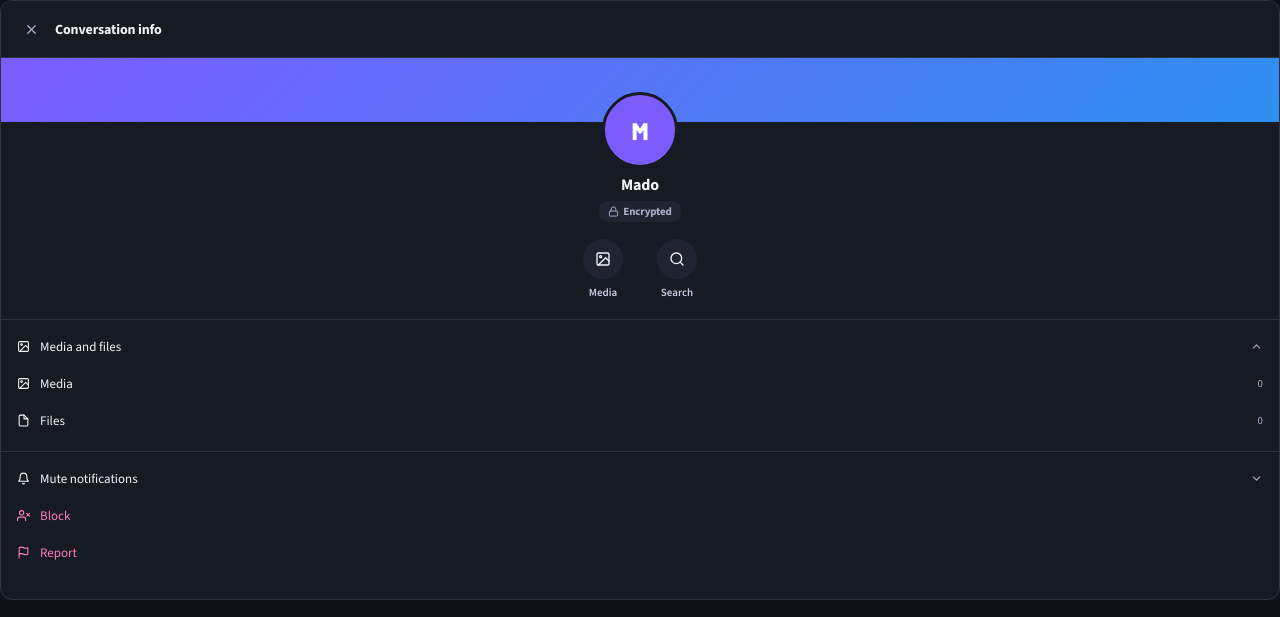
it: ConversationInfoPanel blocking › layout › folds the media and files rows away and opens them again
Expected: the button "Files 0" is shown, [9,402,1271,439]
Click the button "Media and files". click: (81, 346)
box: [9,328,1271,365]
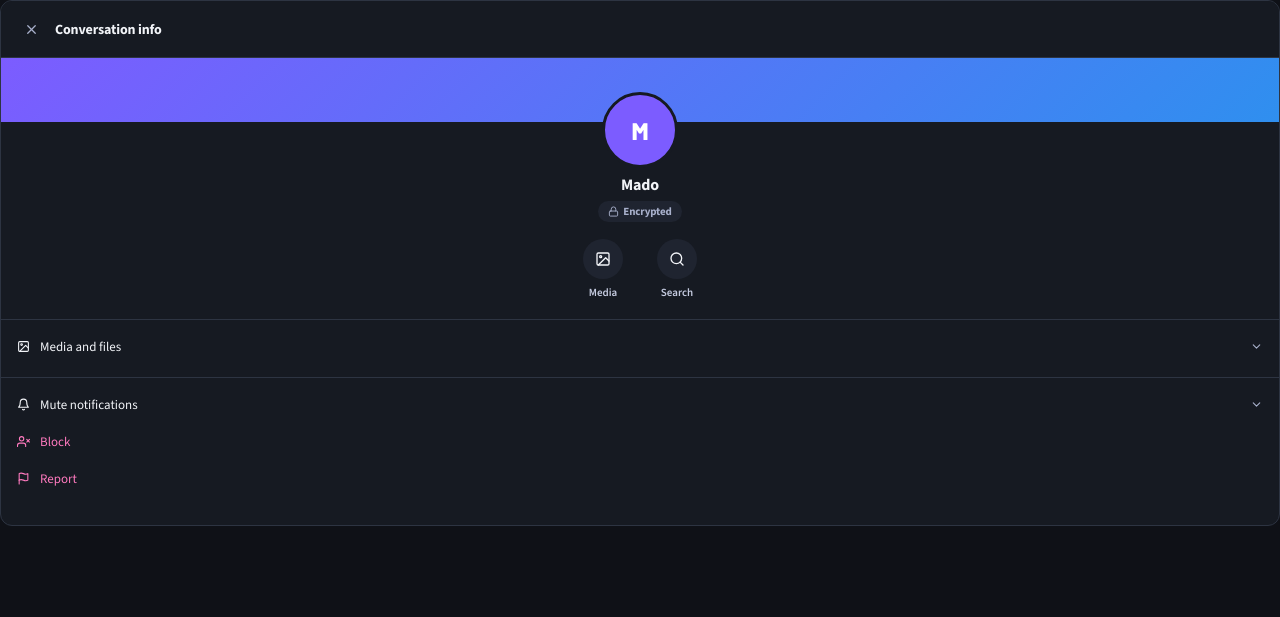
Click the button "Media and files". click: (81, 346)
box: [9,328,1271,365]
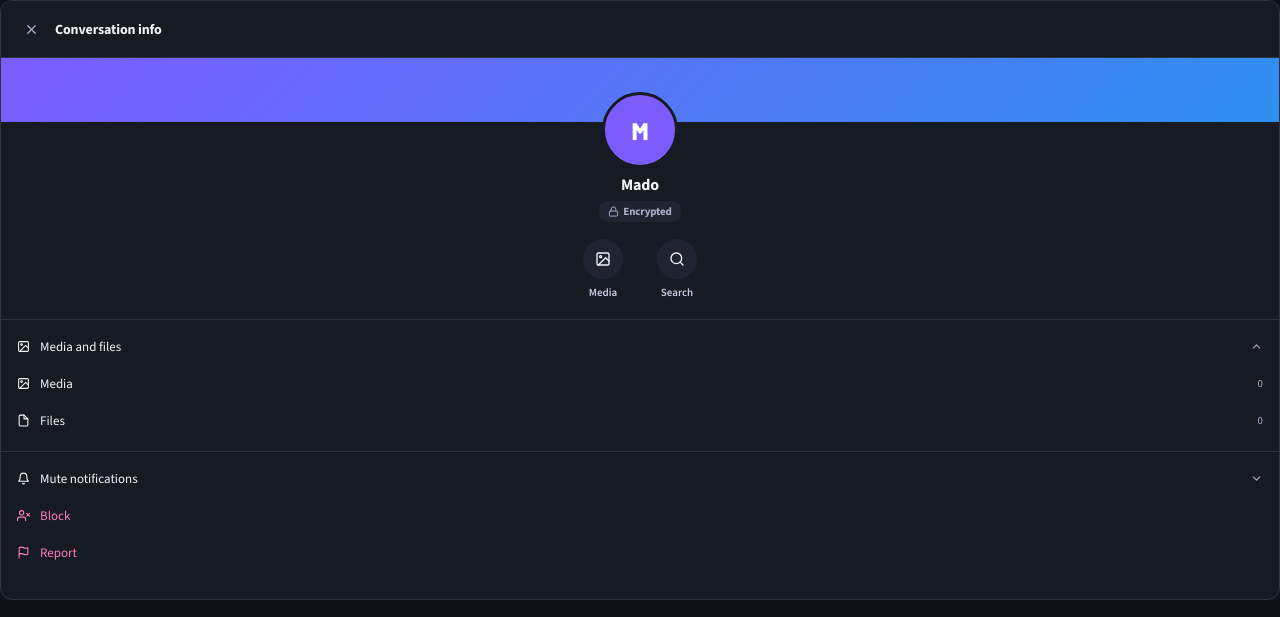
Expected: the button "Files 0" is shown, [9,402,1271,439]
